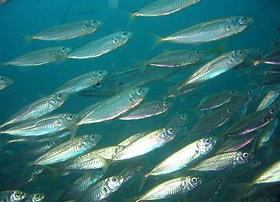Scombridae -Tunas-: (139, 9, 257, 53), (164, 43, 249, 97), (11, 129, 100, 180), (96, 121, 178, 176), (123, 135, 220, 179), (60, 85, 150, 127), (0, 88, 70, 133), (15, 15, 108, 44), (58, 27, 133, 60), (128, 173, 211, 202), (176, 148, 255, 176), (0, 110, 77, 136), (0, 42, 75, 67)
